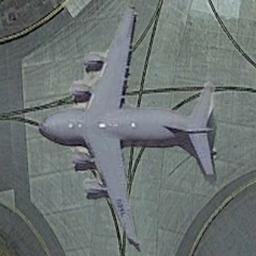Airplane: (33, 6, 224, 252)
